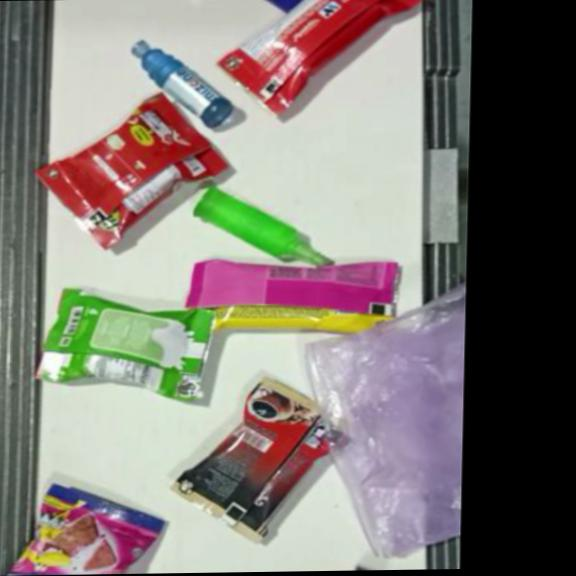Plastik: (301, 277, 465, 559), (170, 373, 350, 544), (35, 91, 228, 250), (214, 0, 429, 116), (35, 285, 217, 404), (184, 254, 398, 342), (7, 479, 167, 576), (123, 28, 255, 137), (191, 183, 334, 268), (258, 0, 308, 14)
